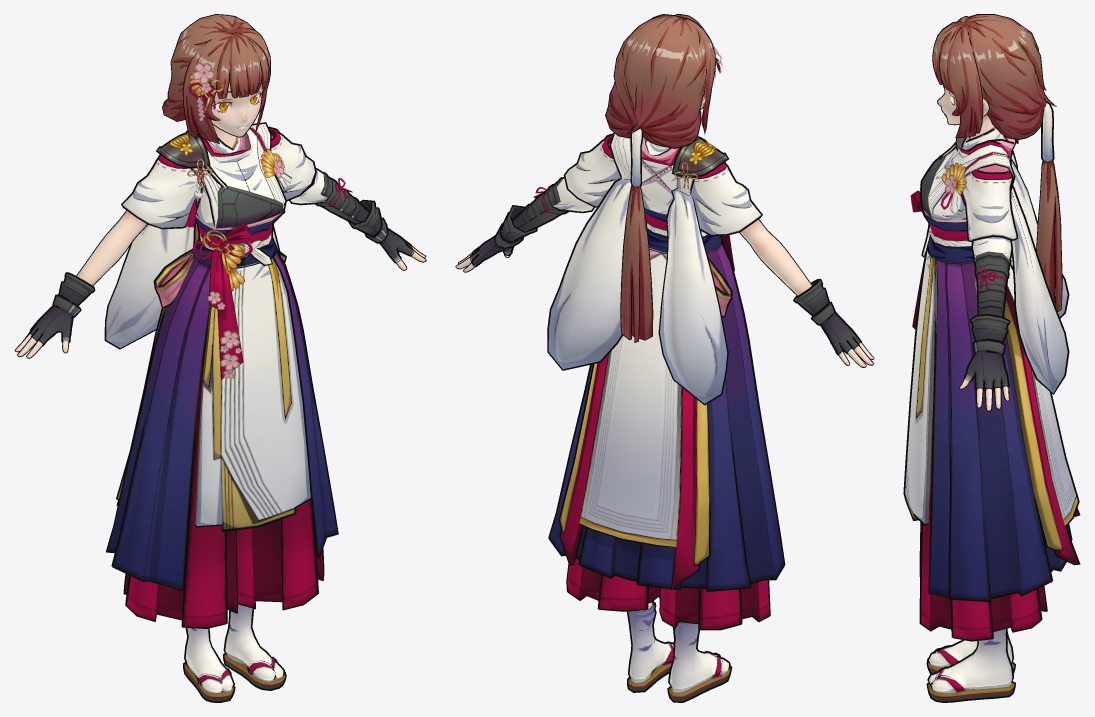
Rendered from avatar-cartoon.glb.
3 views of the same model, side by side, from view 1: azimuth 30°, elevation 25°; view 2: azimuth 150°, elevation 25°; view 3: azimuth 270°, elevation 25° (orthographic).
Parts seen in each view (by area): view 1: SK_Cartoon_Female_005_26_StaticMeshComponent0; view 2: SK_Cartoon_Female_005_26_StaticMeshComponent0; view 3: SK_Cartoon_Female_005_26_StaticMeshComponent0.
Part boxes in pixels (left/top/right/bottom): SK_Cartoon_Female_005_26_StaticMeshComponent0: left=14, top=14, right=426, bottom=702; SK_Cartoon_Female_005_26_StaticMeshComponent0: left=455, top=14, right=874, bottom=702; SK_Cartoon_Female_005_26_StaticMeshComponent0: left=903, top=14, right=1080, bottom=702.
Bounding box in the file's own units: 1.1 × 1.69 × 0.4073.
Materials: 2 (1 with a texture image).
